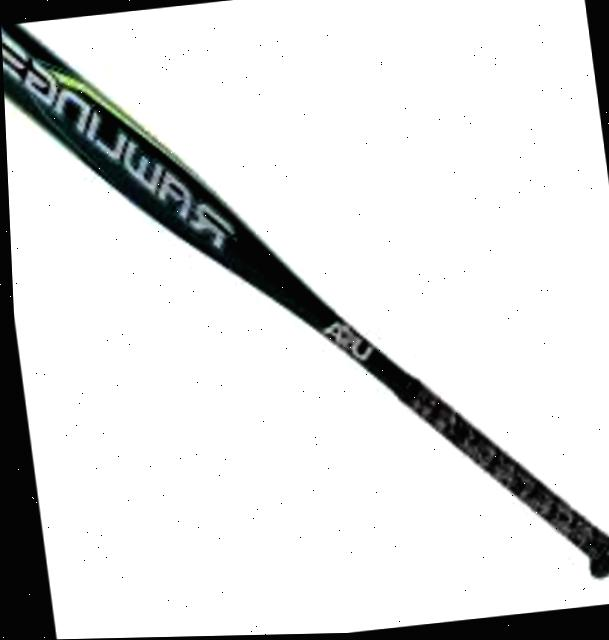baseball bat: (1, 23, 609, 588)
